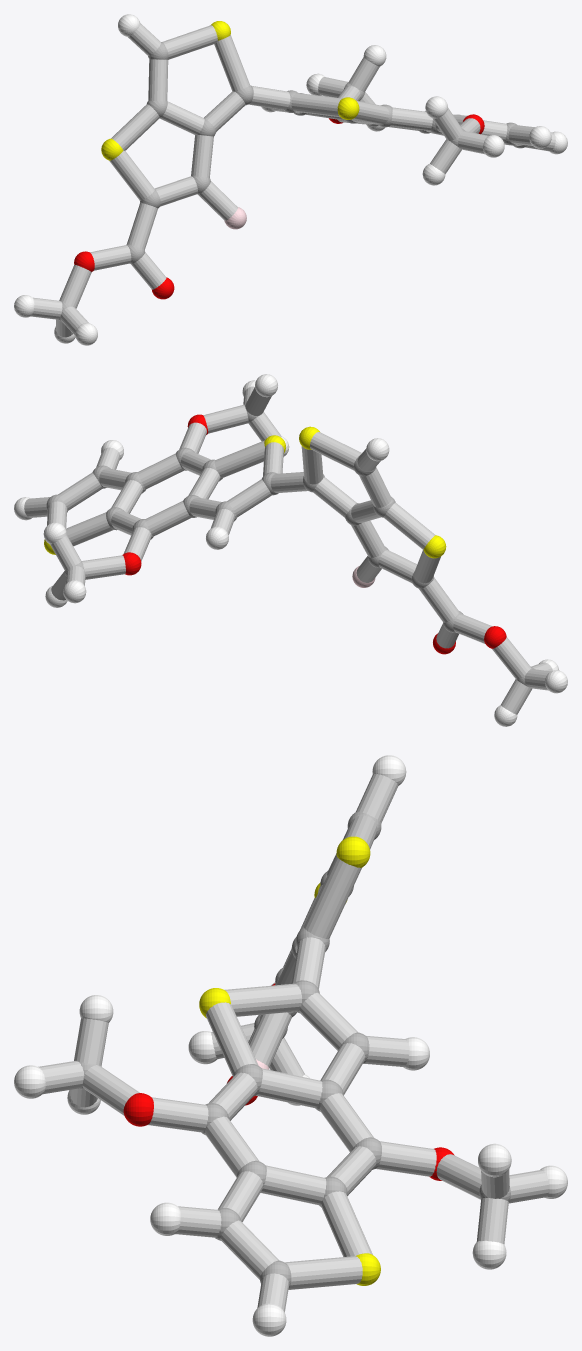
File: color.glb
The picture shows the model from 3 angles, top to bottom: view 1: azimuth 30°, elevation 25°; view 2: azimuth 150°, elevation 25°; view 3: azimuth 270°, elevation 25°; orthographic projection. The views are drawn at different scales.
Visible parts, largest first — view 1: grp15205, grp8689, grp1, grp7241, grp13395; view 2: grp15205, grp8689, grp1, grp13395, grp7241; view 3: grp15205, grp8689, grp1, grp7241, grp13395.
Boxes of the visible parts, x1,y1,x2,y2 form: grp15205: (30, 23, 555, 337); grp8689: (14, 14, 567, 345); grp1: (58, 42, 527, 321); grp7241: (101, 21, 359, 160); grp13395: (74, 114, 484, 299); grp15205: (24, 386, 552, 714); grp8689: (14, 374, 567, 726); grp1: (46, 402, 534, 685); grp13395: (122, 414, 506, 654); grp7241: (44, 426, 446, 558); grp15205: (38, 773, 549, 1312); grp8689: (14, 755, 567, 1336); grp1: (79, 812, 510, 1287); grp7241: (199, 836, 380, 1285); grp13395: (123, 983, 454, 1180).
Size of the model in its own units: 16.54 by 8.14 by 9.83.
